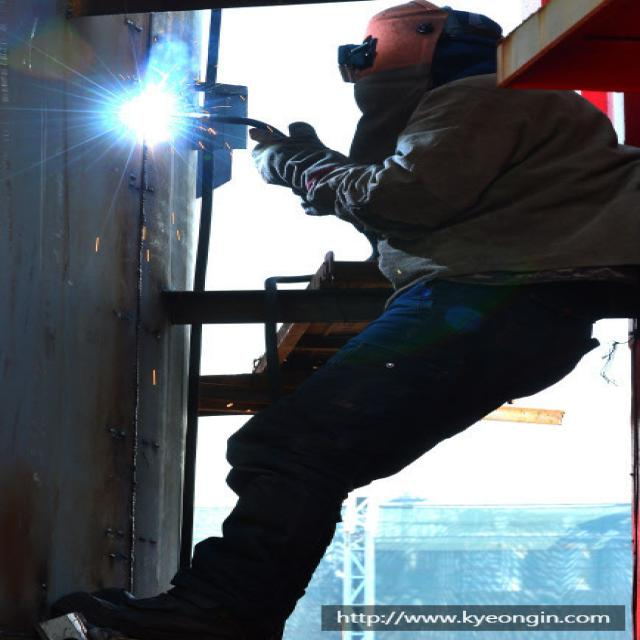welding: (118, 86, 190, 140)
